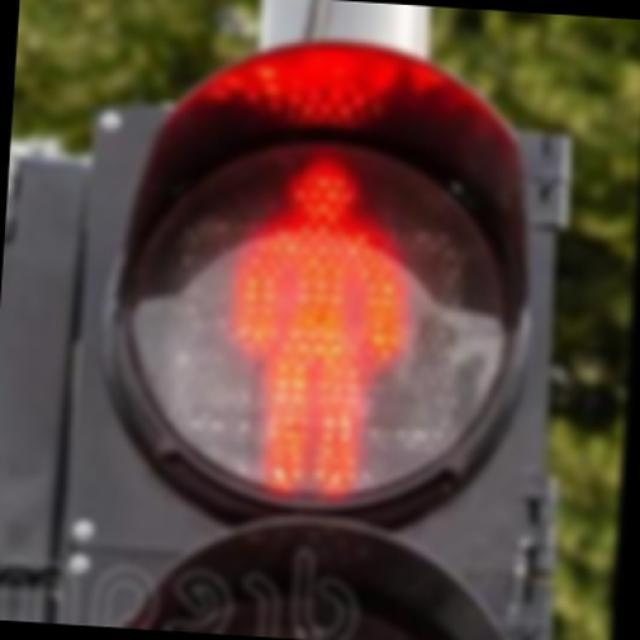red-crossing: (94, 114, 544, 521)
